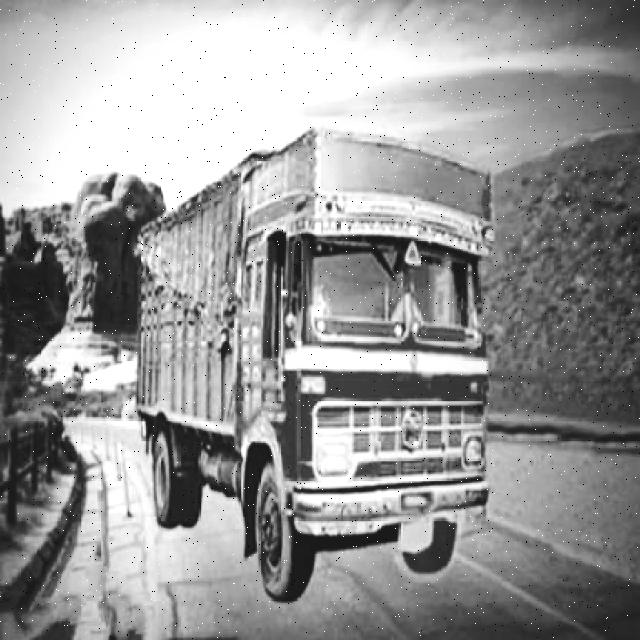HCV: (131, 189, 496, 552)
